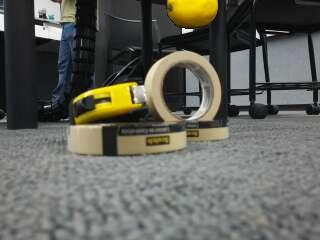lemon: (166, 0, 217, 28)
